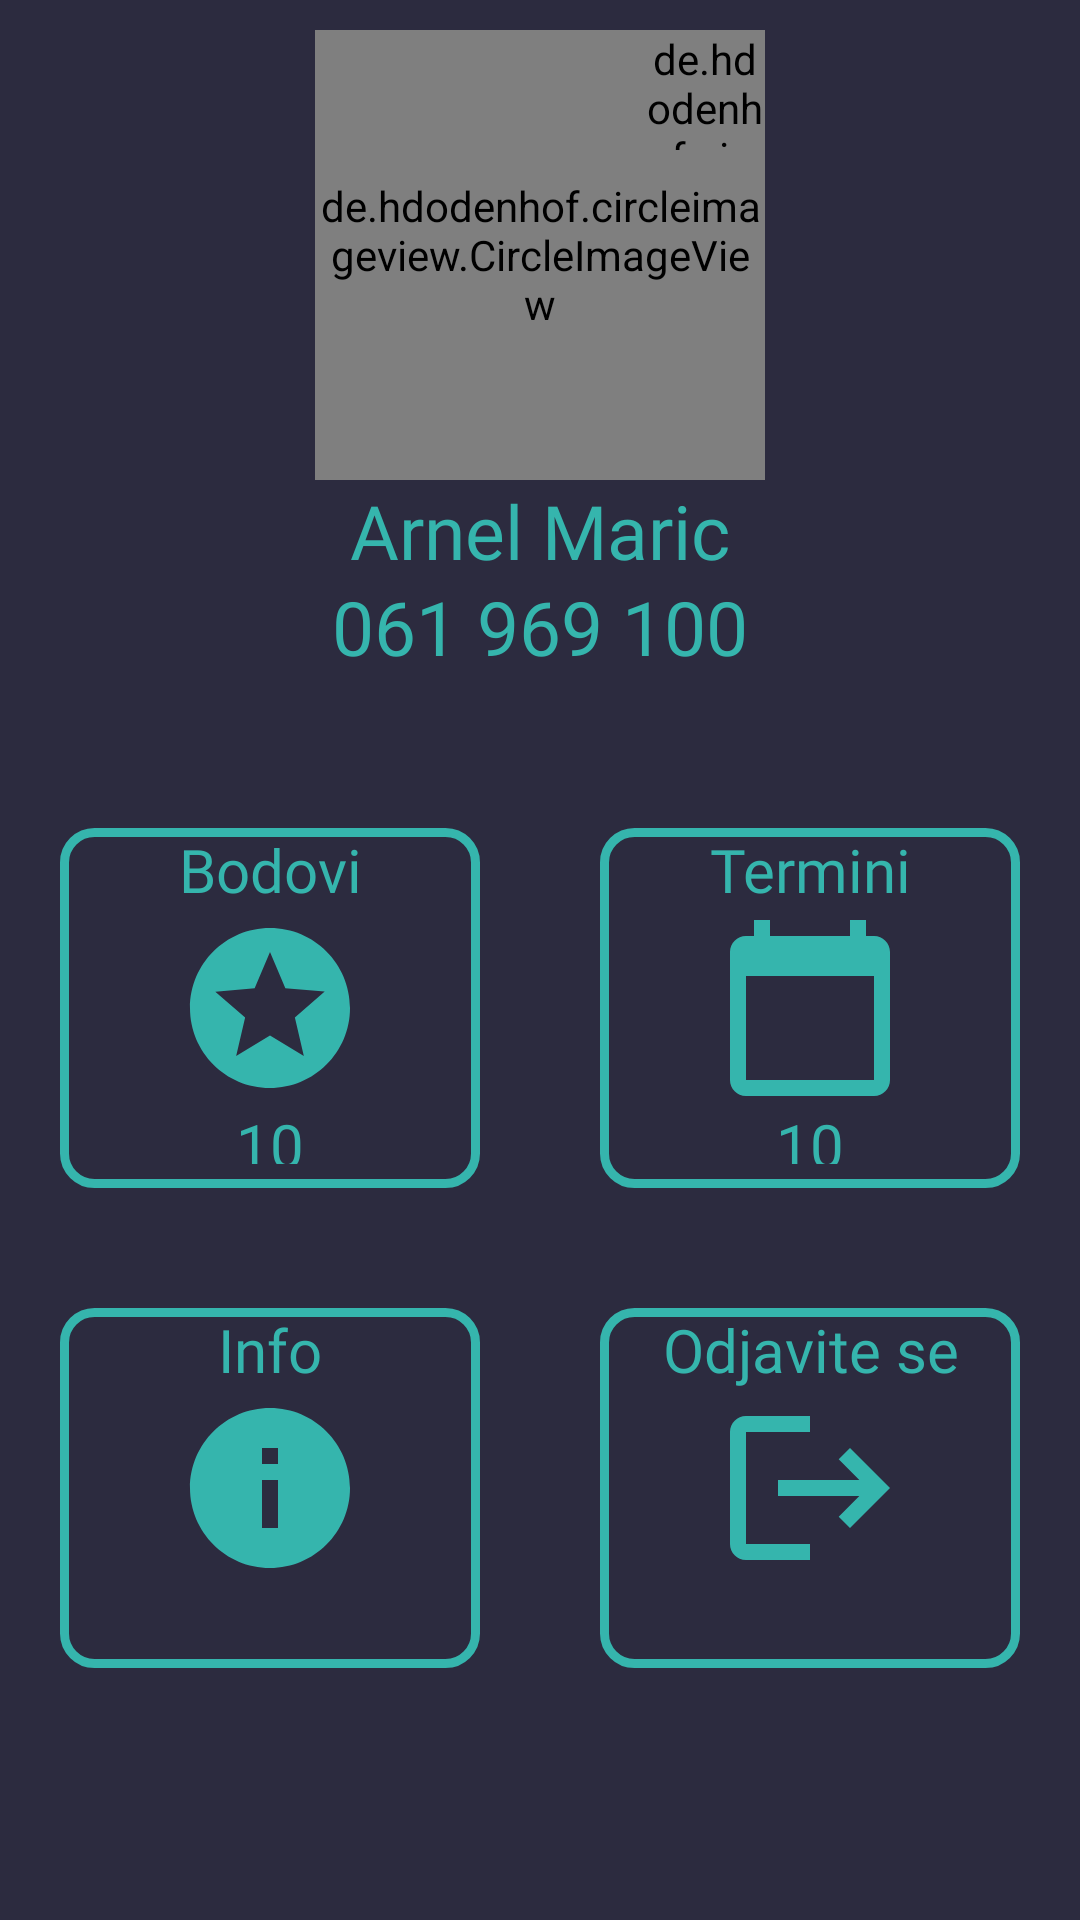

Named icons in this screenshot (1080px x 1920px) and their centers, point (x, y):
calendar today: point (810, 1008)
stars: point (270, 1008)
